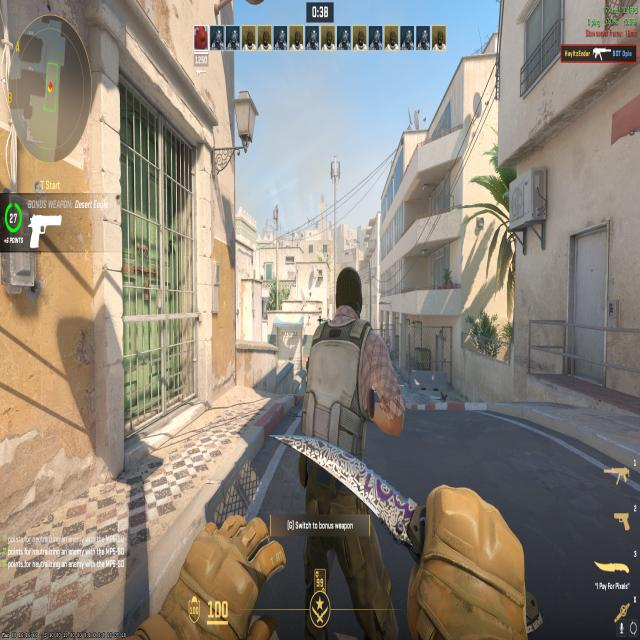t: (296, 267, 390, 613)
